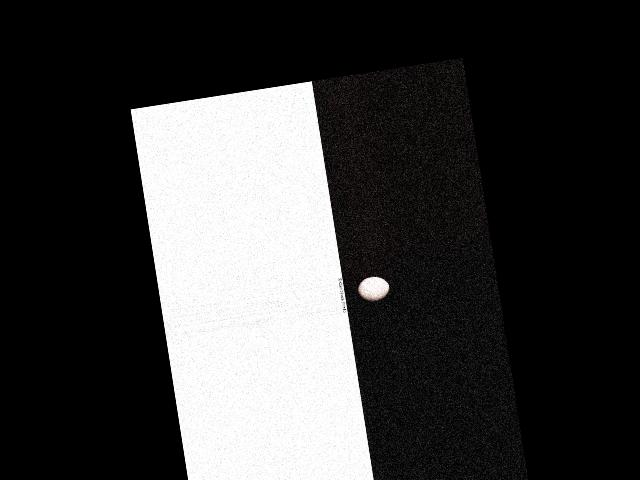egg: (355, 275, 390, 303)
